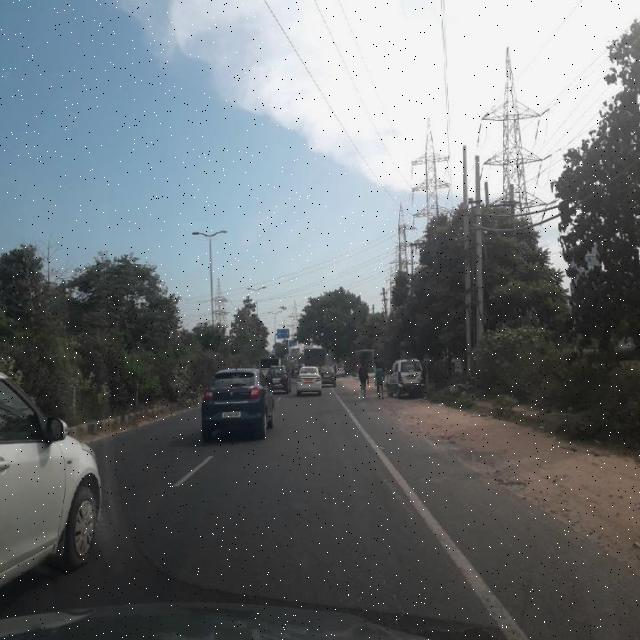D20: (149, 446, 455, 628)
